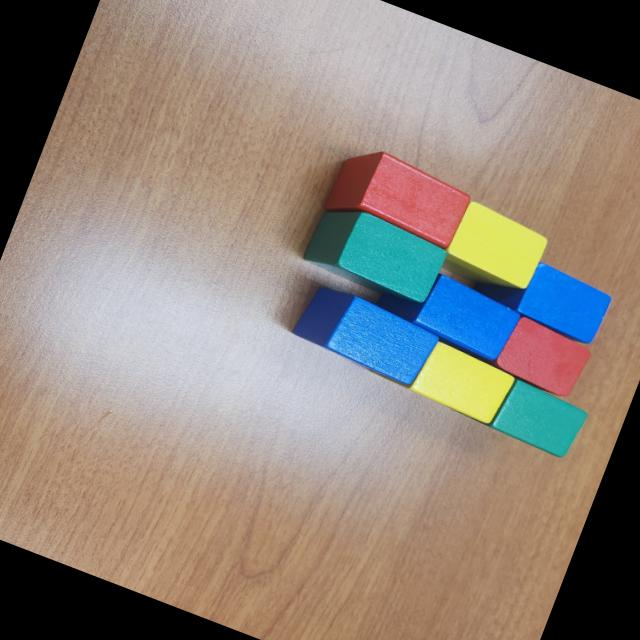blue: (286, 278, 446, 392), (378, 258, 526, 367), (468, 243, 616, 349)
green: (299, 196, 451, 312), (444, 359, 594, 464)
red: (322, 139, 474, 256), (492, 313, 596, 402)
yellow: (368, 322, 518, 428), (438, 198, 552, 302)
